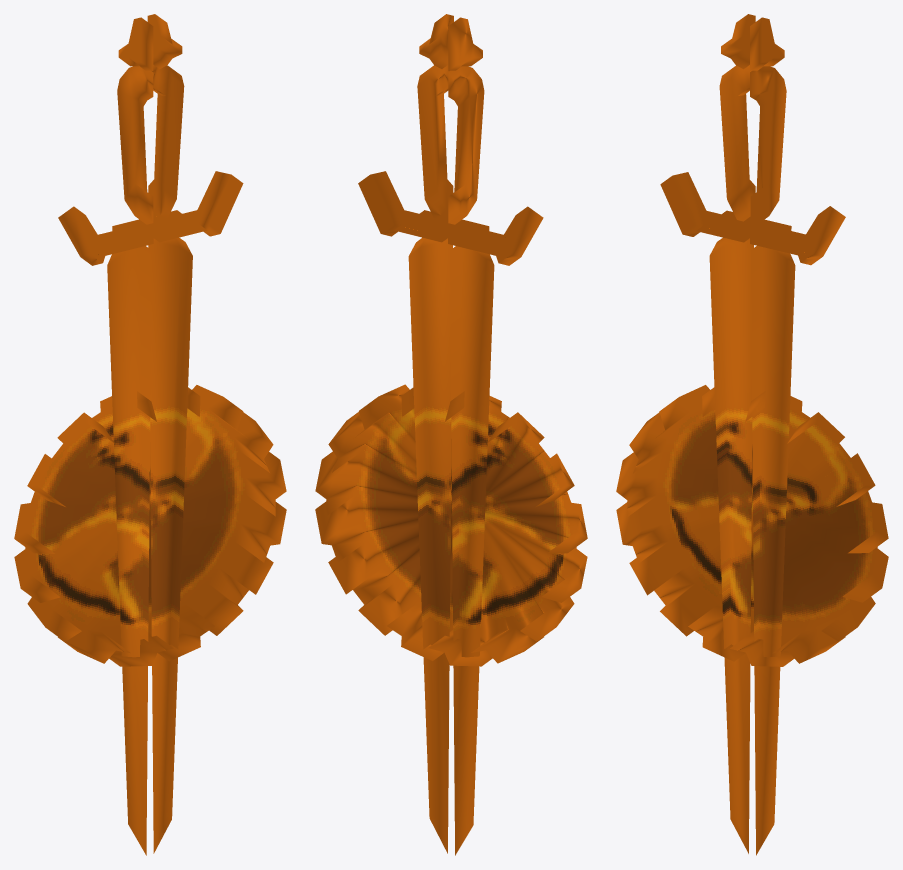
Rendered from ps2_save-icons_startrekshattereduniverse.glb.
3 renders of one model, left to right at view 1: azimuth 30°, elevation 25°; view 2: azimuth 150°, elevation 25°; view 3: azimuth 330°, elevation 25°, orthographic.
Visible parts, largest first — view 1: icon.ico; view 2: icon.ico; view 3: icon.ico.
Part boxes in pixels (x1=…): icon.ico: x1=14, y1=14, x2=286, y2=855; icon.ico: x1=315, y1=14, x2=587, y2=855; icon.ico: x1=616, y1=14, x2=888, y2=855.
Size of the model in its own units: 1.57 by 4.95 by 0.4067.
Materials: 1 (1 with a texture image).
